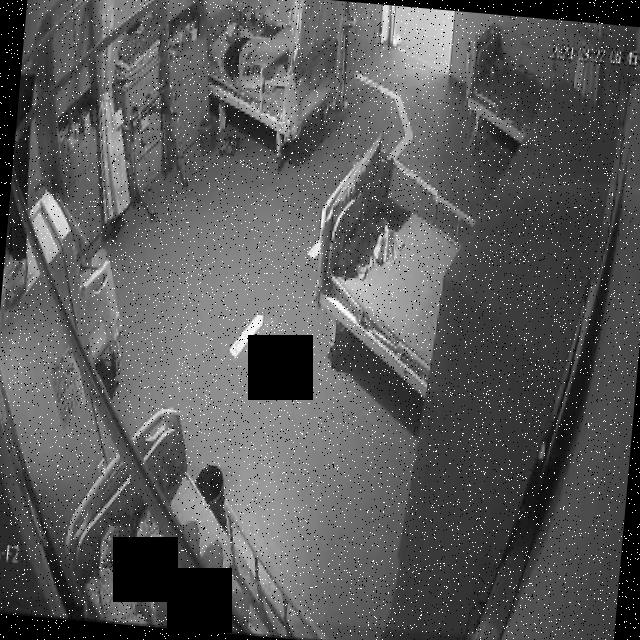bed: (57, 398, 318, 639), (309, 149, 472, 389), (204, 10, 344, 139), (460, 21, 552, 145)
lie: (218, 20, 294, 86)
patient: (218, 20, 264, 83)
